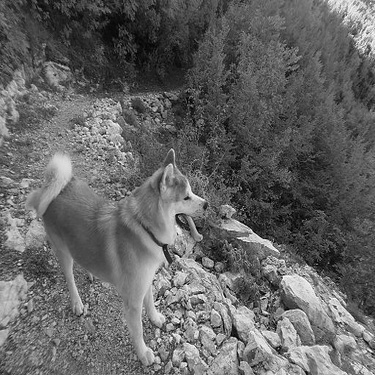dog: (20, 146, 210, 367)
